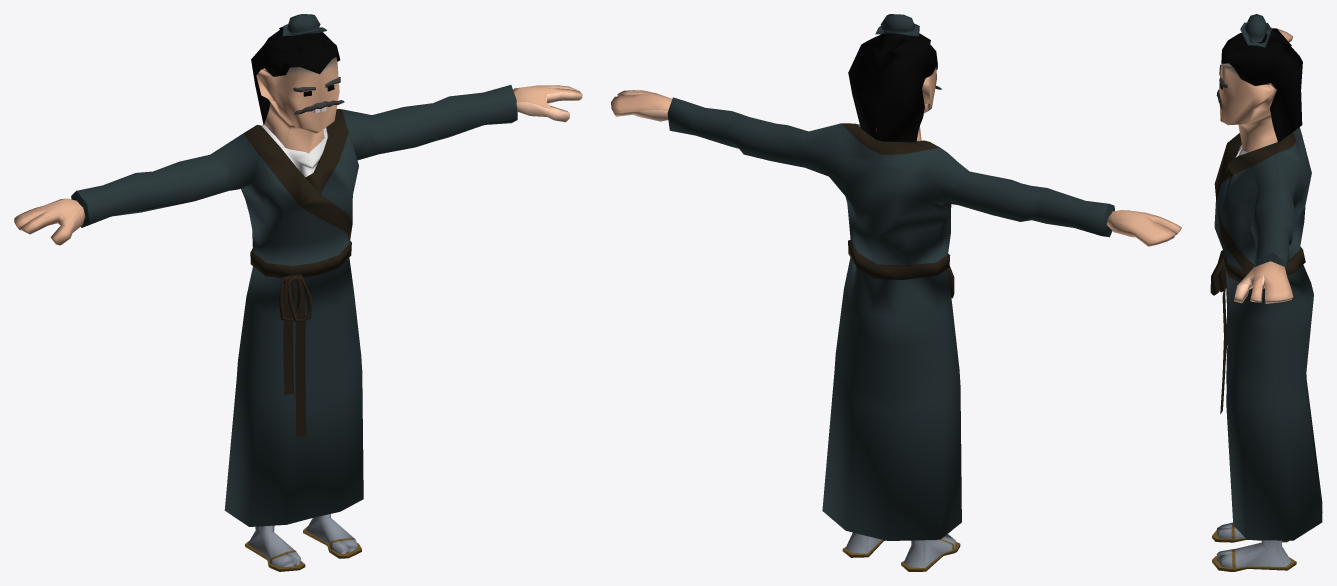
Rendered from 鲍叔牙.fbx.
The picture shows the model from 3 angles, left to right: view 1: azimuth 30°, elevation 25°; view 2: azimuth 150°, elevation 25°; view 3: azimuth 270°, elevation 25°; orthographic projection.
Parts seen in each view (by area): view 1: Character_Peasant.018_Baked; view 2: Character_Peasant.018_Baked; view 3: Character_Peasant.018_Baked.
Part boxes in pixels (x1,y1,x2,y2): Character_Peasant.018_Baked: [14, 14, 582, 571]; Character_Peasant.018_Baked: [611, 14, 1181, 571]; Character_Peasant.018_Baked: [1210, 14, 1322, 571].
Bounding box in the file's own units: 199 × 182 × 34.56.
1 material, 1 textured.
